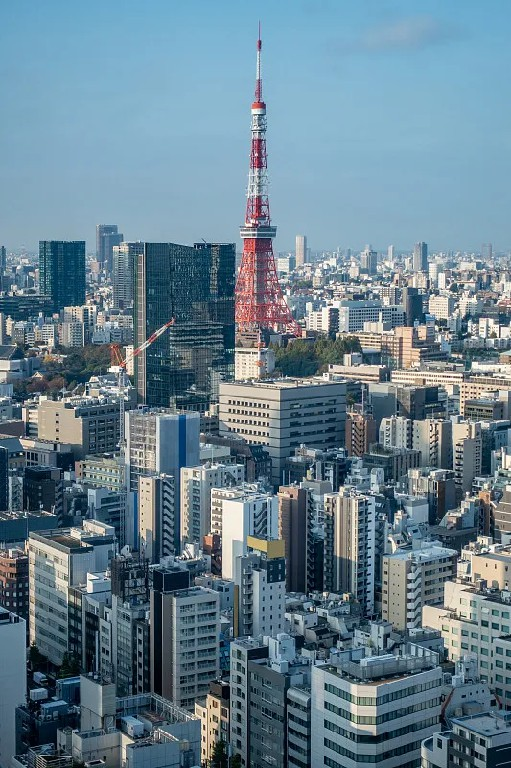Tokyo: (232, 12, 303, 338)
